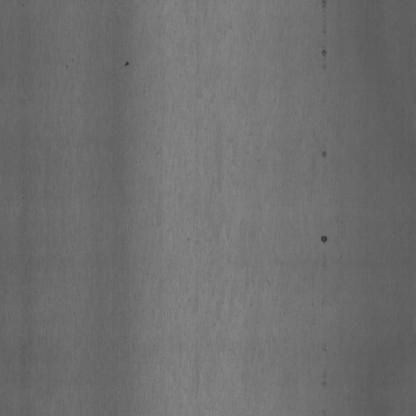oil_spot: (318, 0, 328, 68), (320, 228, 330, 256), (320, 137, 328, 161)
